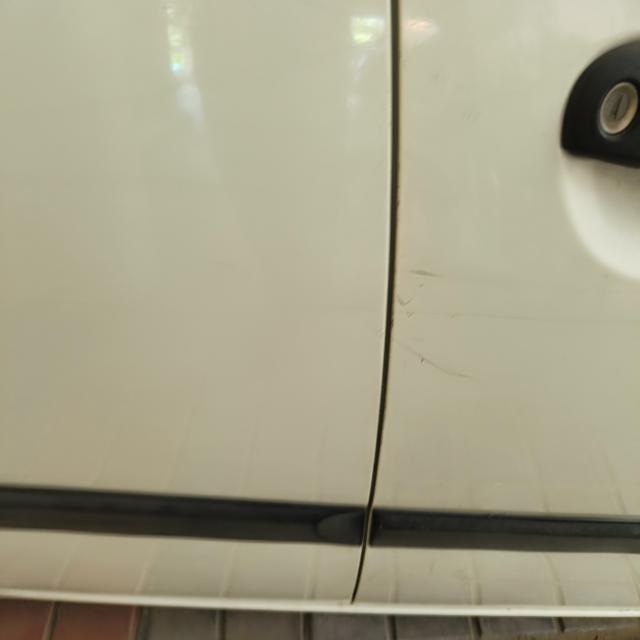scratch: (398, 258, 485, 389)
